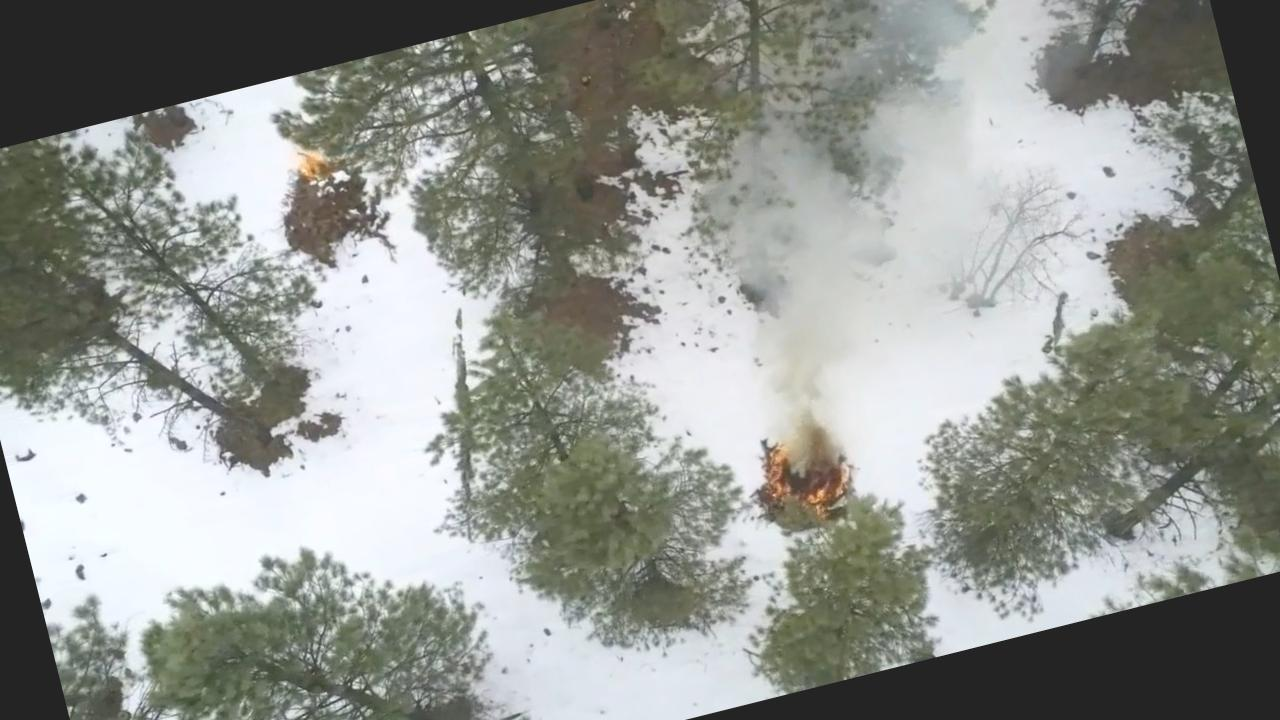fire: (749, 410, 864, 530)
smoke: (676, 112, 893, 315), (814, 0, 993, 101)
